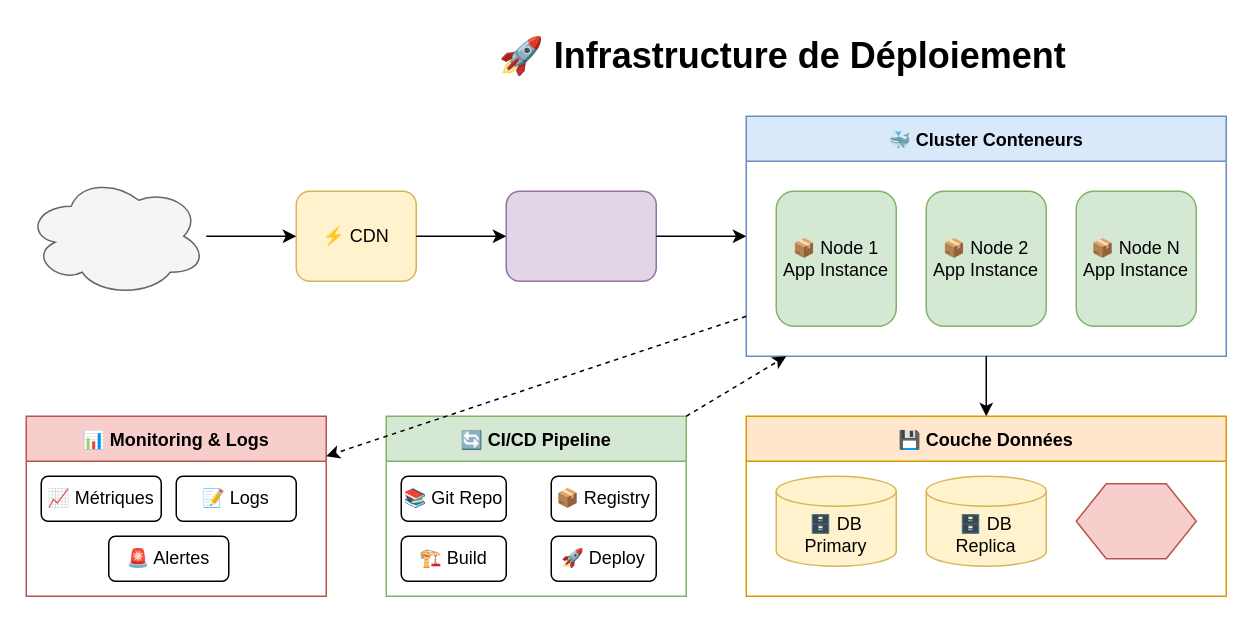
Some shapes in this 1253 by 623 pixel diagram are drawn without their labels. Each missing label, with the centre of its shape:
"⚖️ Load Balancer" belongs at pixel 580 235.
"⚡ Redis Cache" belongs at pixel 1135 520.
"🌍 Internet" belongs at pixel 115 235.
